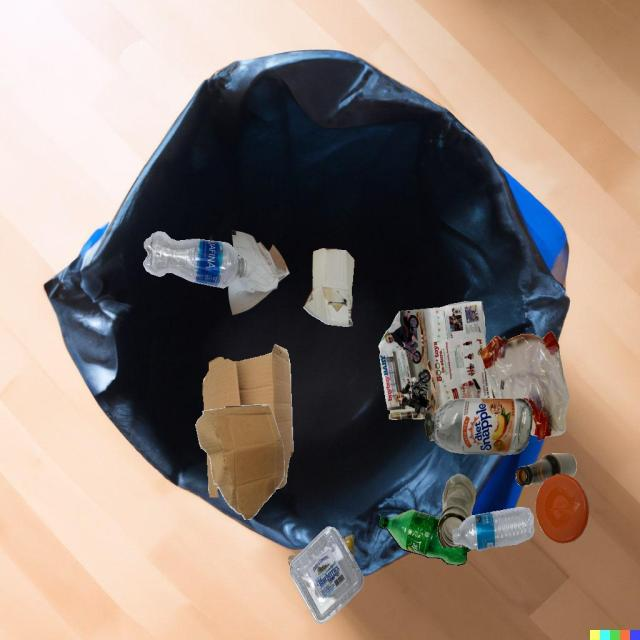cardboard: (195, 405, 285, 520), (202, 344, 287, 410), (218, 405, 278, 498), (303, 248, 355, 327)
glass: (424, 398, 532, 455), (437, 474, 476, 548), (516, 453, 577, 486), (342, 535, 355, 557), (288, 553, 300, 565)
paper: (378, 301, 495, 420), (228, 230, 290, 315)
plastic: (479, 331, 569, 441), (290, 526, 363, 623), (143, 231, 253, 288), (378, 509, 471, 565), (536, 474, 589, 543), (452, 507, 534, 551)
